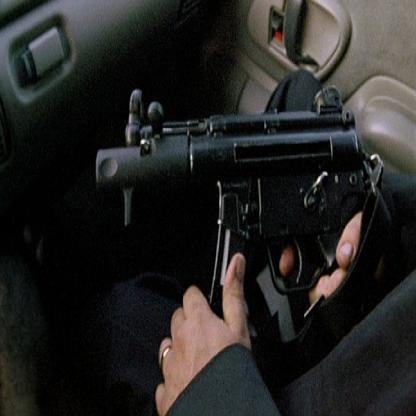Guns: (93, 94, 383, 342)
